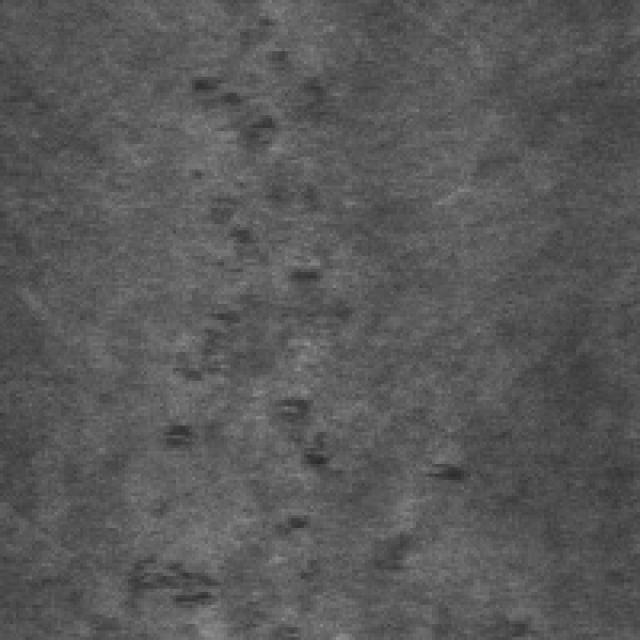rolled-in_scale: (160, 218, 336, 630), (189, 0, 336, 195), (112, 528, 259, 637)
